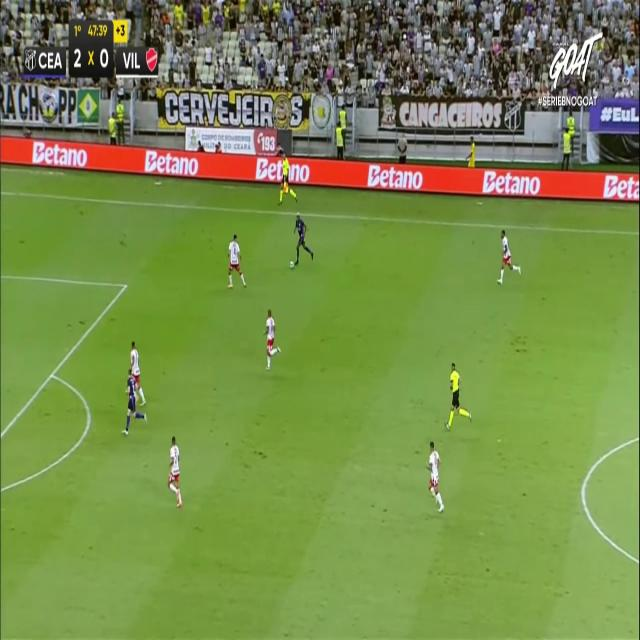ball: (288, 262, 296, 274)
player: (121, 368, 147, 435), (497, 229, 521, 284), (427, 440, 445, 512), (292, 212, 314, 266), (128, 341, 146, 407), (167, 436, 183, 507), (263, 308, 281, 370), (227, 233, 247, 288)
referee: (444, 362, 472, 430), (277, 151, 298, 205)
